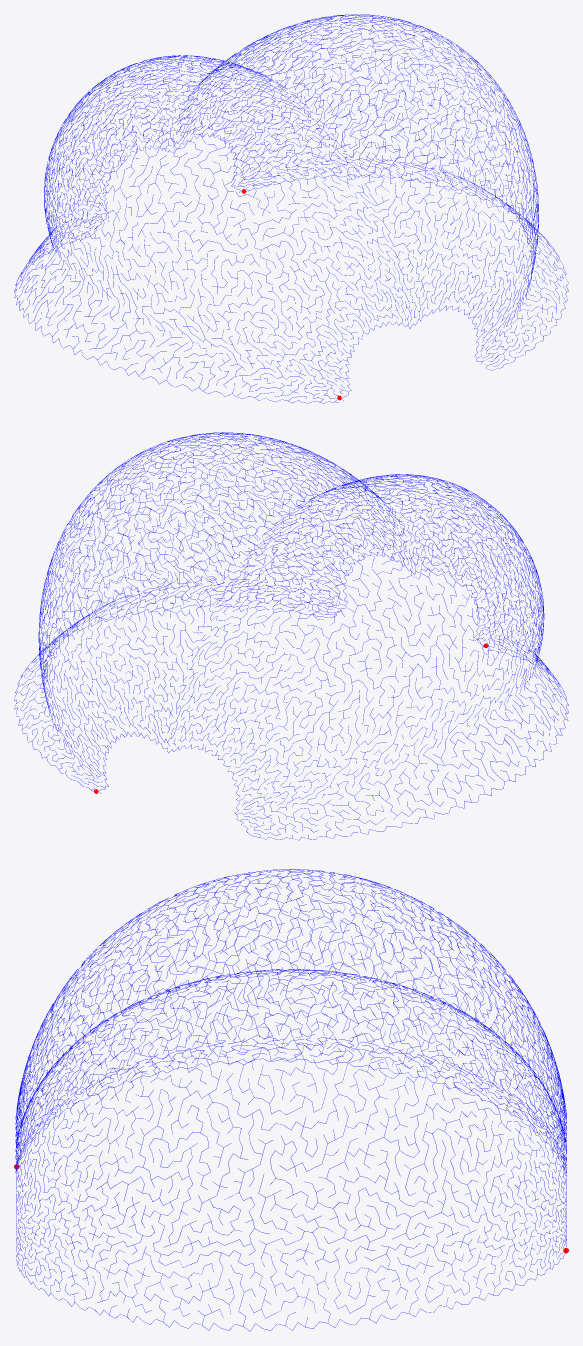
File: task1.glb
3 views of the same model, one above another, from view 1: azimuth 30°, elevation 25°; view 2: azimuth 150°, elevation 25°; view 3: azimuth 270°, elevation 25° (orthographic). The views are drawn at different scales.
Size of the model in its own units: 2.3 by 1.13 by 2.01.
